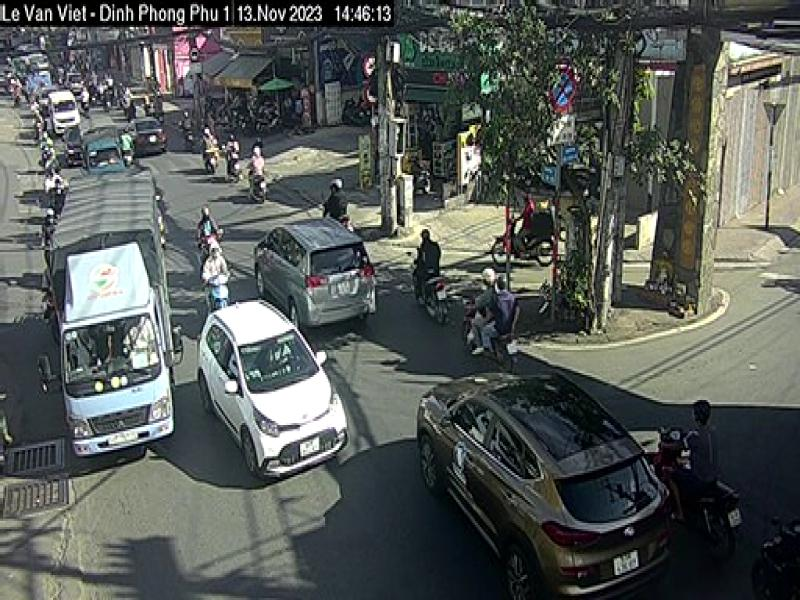truck: (39, 172, 179, 464)
